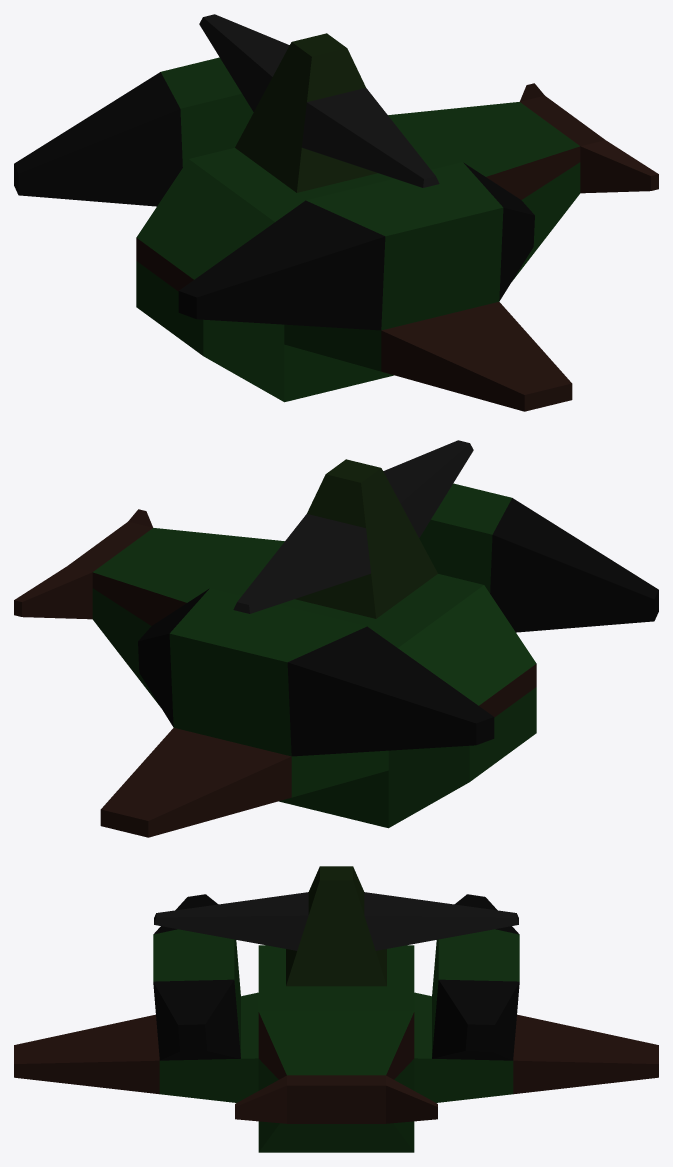
The model's file is GunnerDrone.fbx.
3 views of the same model, one above another, from view 1: azimuth 30°, elevation 25°; view 2: azimuth 150°, elevation 25°; view 3: azimuth 270°, elevation 25° (orthographic). The views are drawn at different scales.
Visible parts, largest first — view 1: Cube, Cube.001; view 2: Cube, Cube.001; view 3: Cube, Cube.001.
Boxes of the visible parts, box(x1,y1,x2,y2) form: Cube: box(14, 57, 658, 411); Cube.001: box(199, 14, 439, 192); Cube: box(14, 483, 658, 837); Cube.001: box(233, 440, 473, 618); Cube: box(14, 894, 658, 1152); Cube.001: box(154, 866, 518, 986).
Size of the model in its own units: 602 by 349 by 827.
